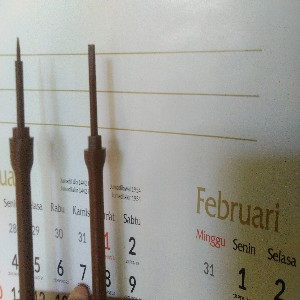obeng: (83, 43, 107, 300)
solder: (8, 35, 35, 300)
